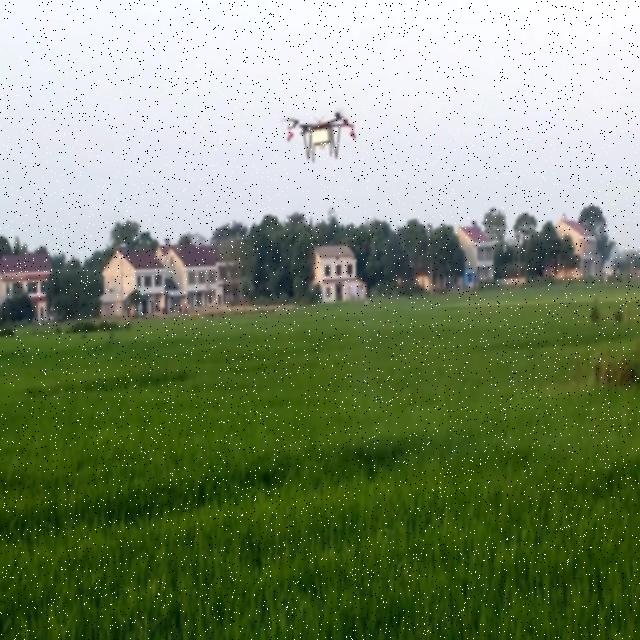UAV: (282, 108, 356, 164)
